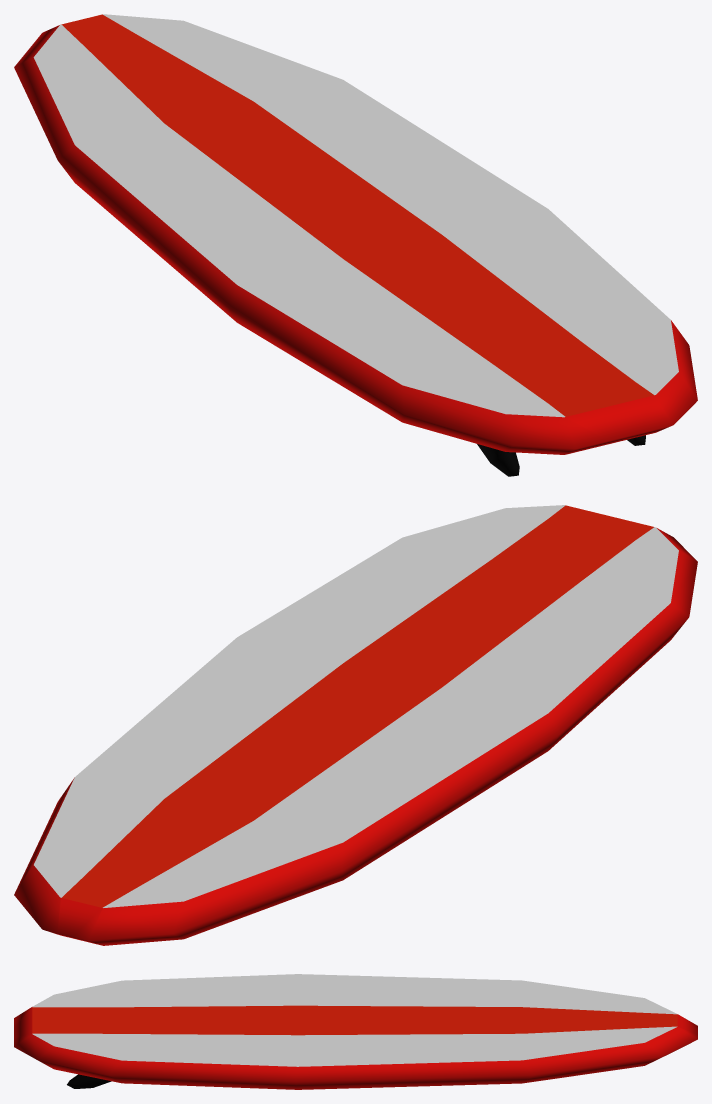
The model's file is Surfboard_Smooth_2.fbx.
3 views of the same model, one above another, from view 1: azimuth 30°, elevation 25°; view 2: azimuth 150°, elevation 25°; view 3: azimuth 270°, elevation 25° (orthographic). The views are drawn at different scales.
Parts seen in each view (by area): view 1: Cube; view 2: Cube; view 3: Cube.
Part boxes in pixels (box(x1,y1,x2,y2)): Cube: box(14, 14, 697, 476); Cube: box(14, 505, 697, 945); Cube: box(14, 974, 697, 1089).
Size of the model in its own units: 111 by 25.72 by 327.
